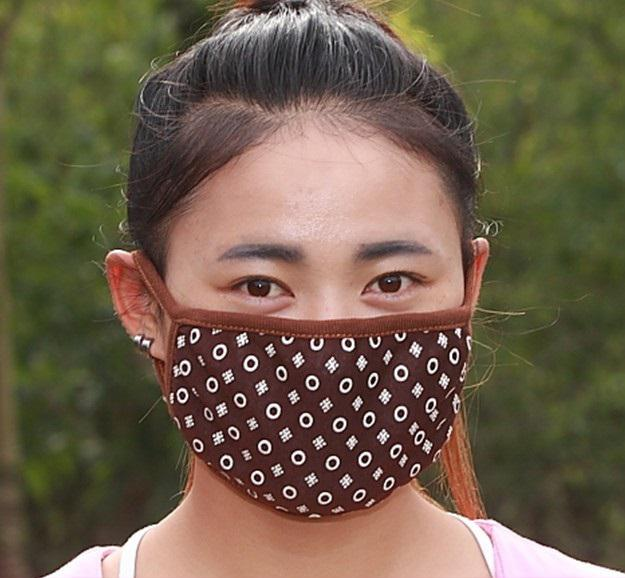OK: (189, 223, 467, 501)
